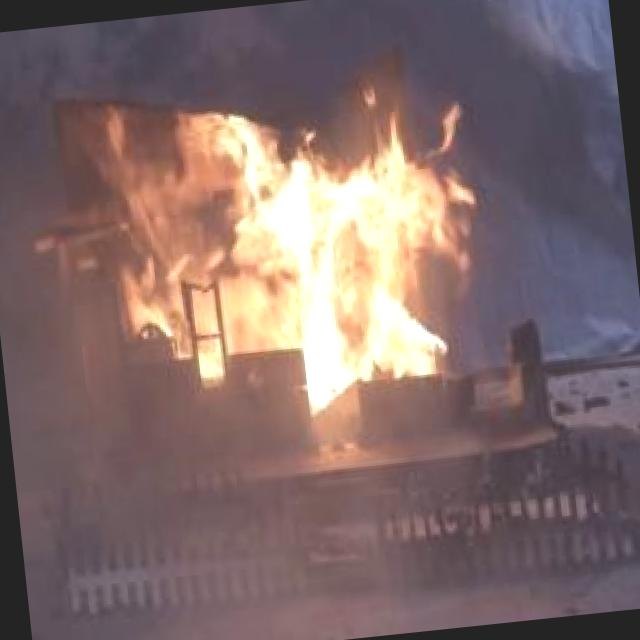fire: (84, 76, 490, 406)
